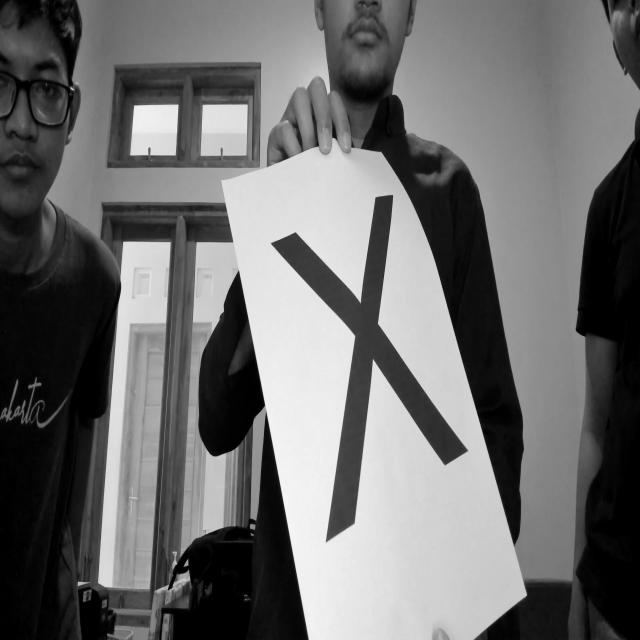x: (270, 183, 476, 547)
